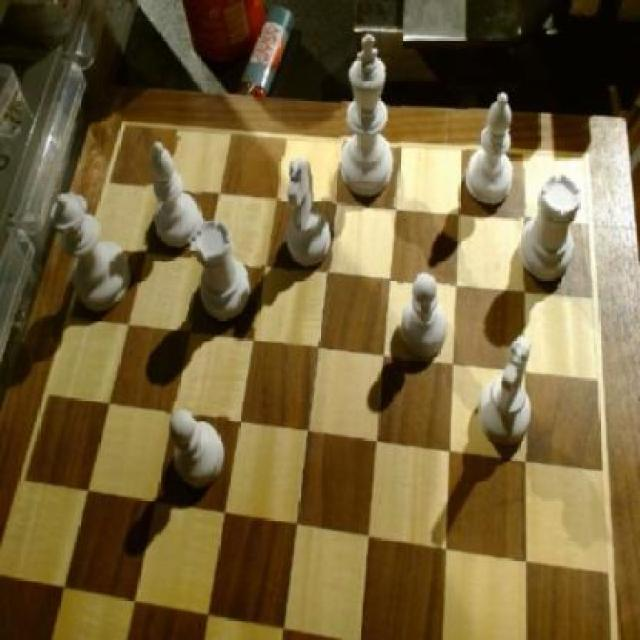black-rook: (143, 135, 202, 250), (465, 88, 519, 210)
white-bishop: (338, 32, 402, 208)
white-king: (479, 328, 536, 453), (278, 154, 334, 273)
white-knight: (166, 398, 230, 491), (397, 268, 452, 359)
white-pawn: (47, 192, 132, 318)
white-queen: (191, 220, 263, 326), (519, 169, 583, 288)
